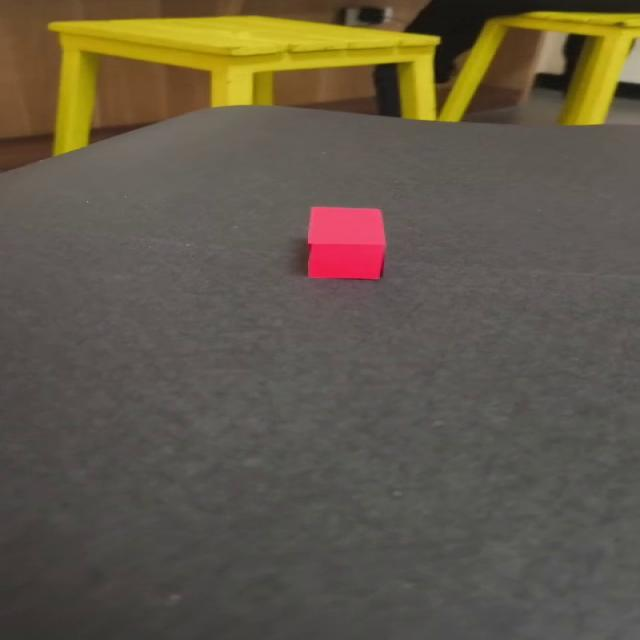red block: (305, 205, 387, 280)
